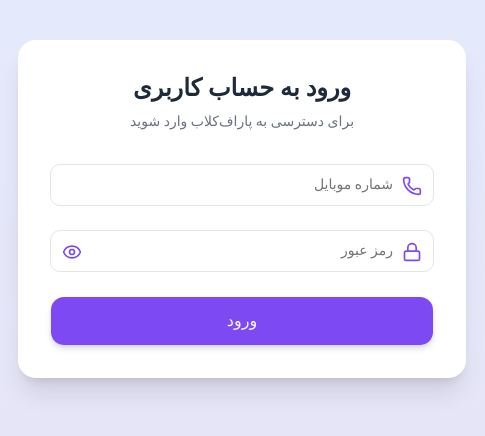
Test: LoginForm › should render form and show validation errors
Click the button "ورود" at (242, 321), box [50,296,434,346]
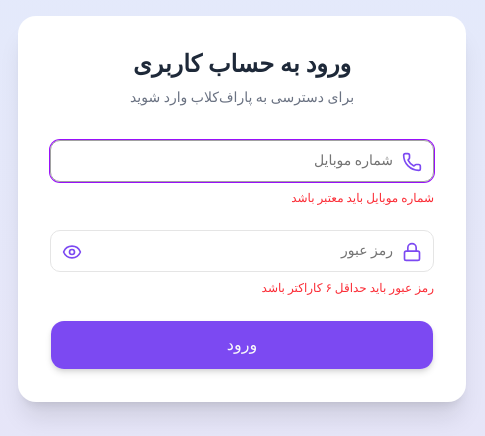
Check: the text "شماره موبایل باید معتبر باشد" is shown, box [291,191,434,205]
Check: the text "رمز عبور باید حداقل ۶ کاراکتر باشد" is shown, box [262,281,434,295]
